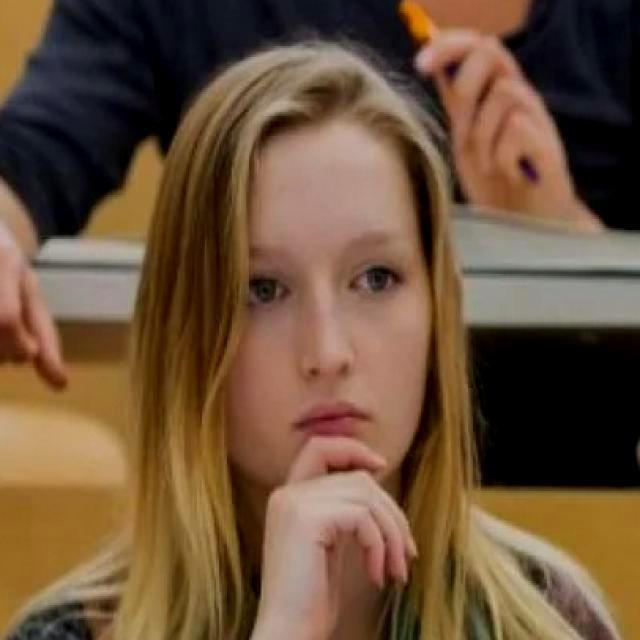Looking forward: (224, 115, 436, 491)
